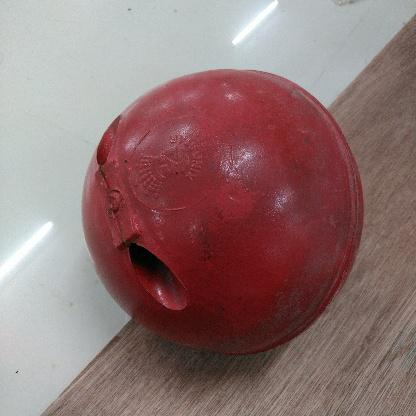red_buoy: (80, 67, 366, 356)
